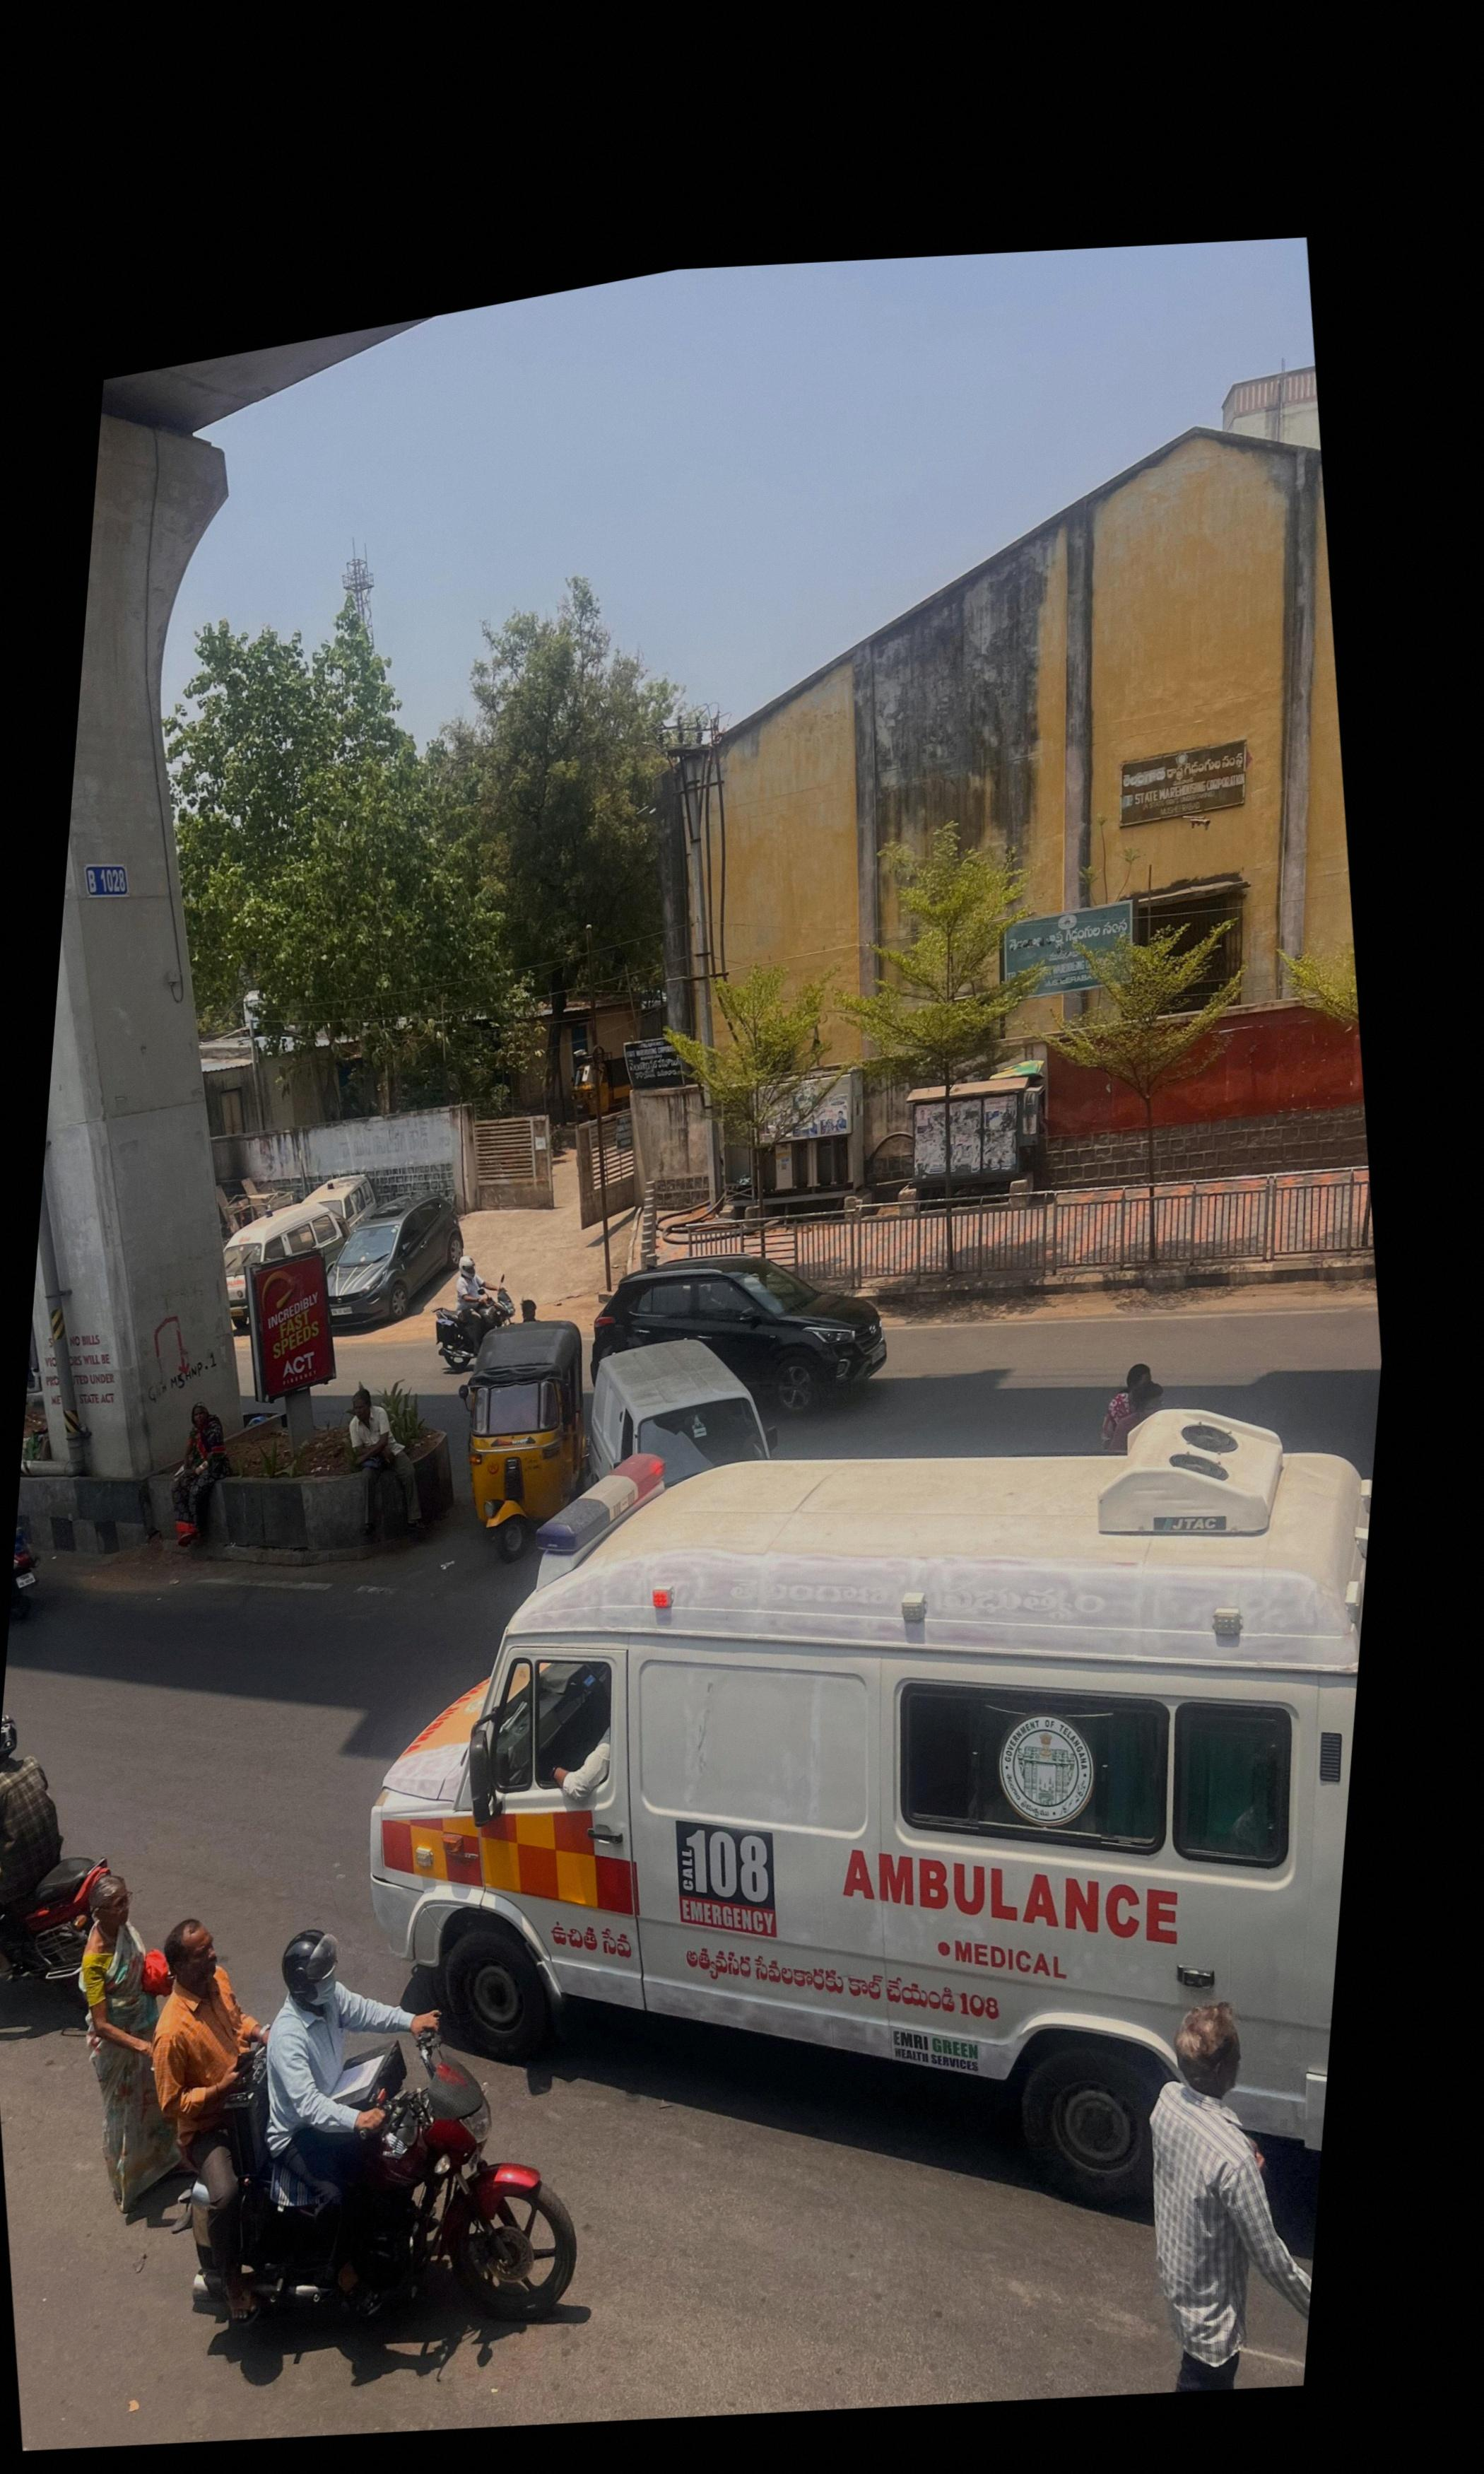ambulance: (357, 1415, 1341, 2212)
